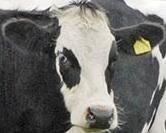muzzles: (70, 102, 123, 131)
